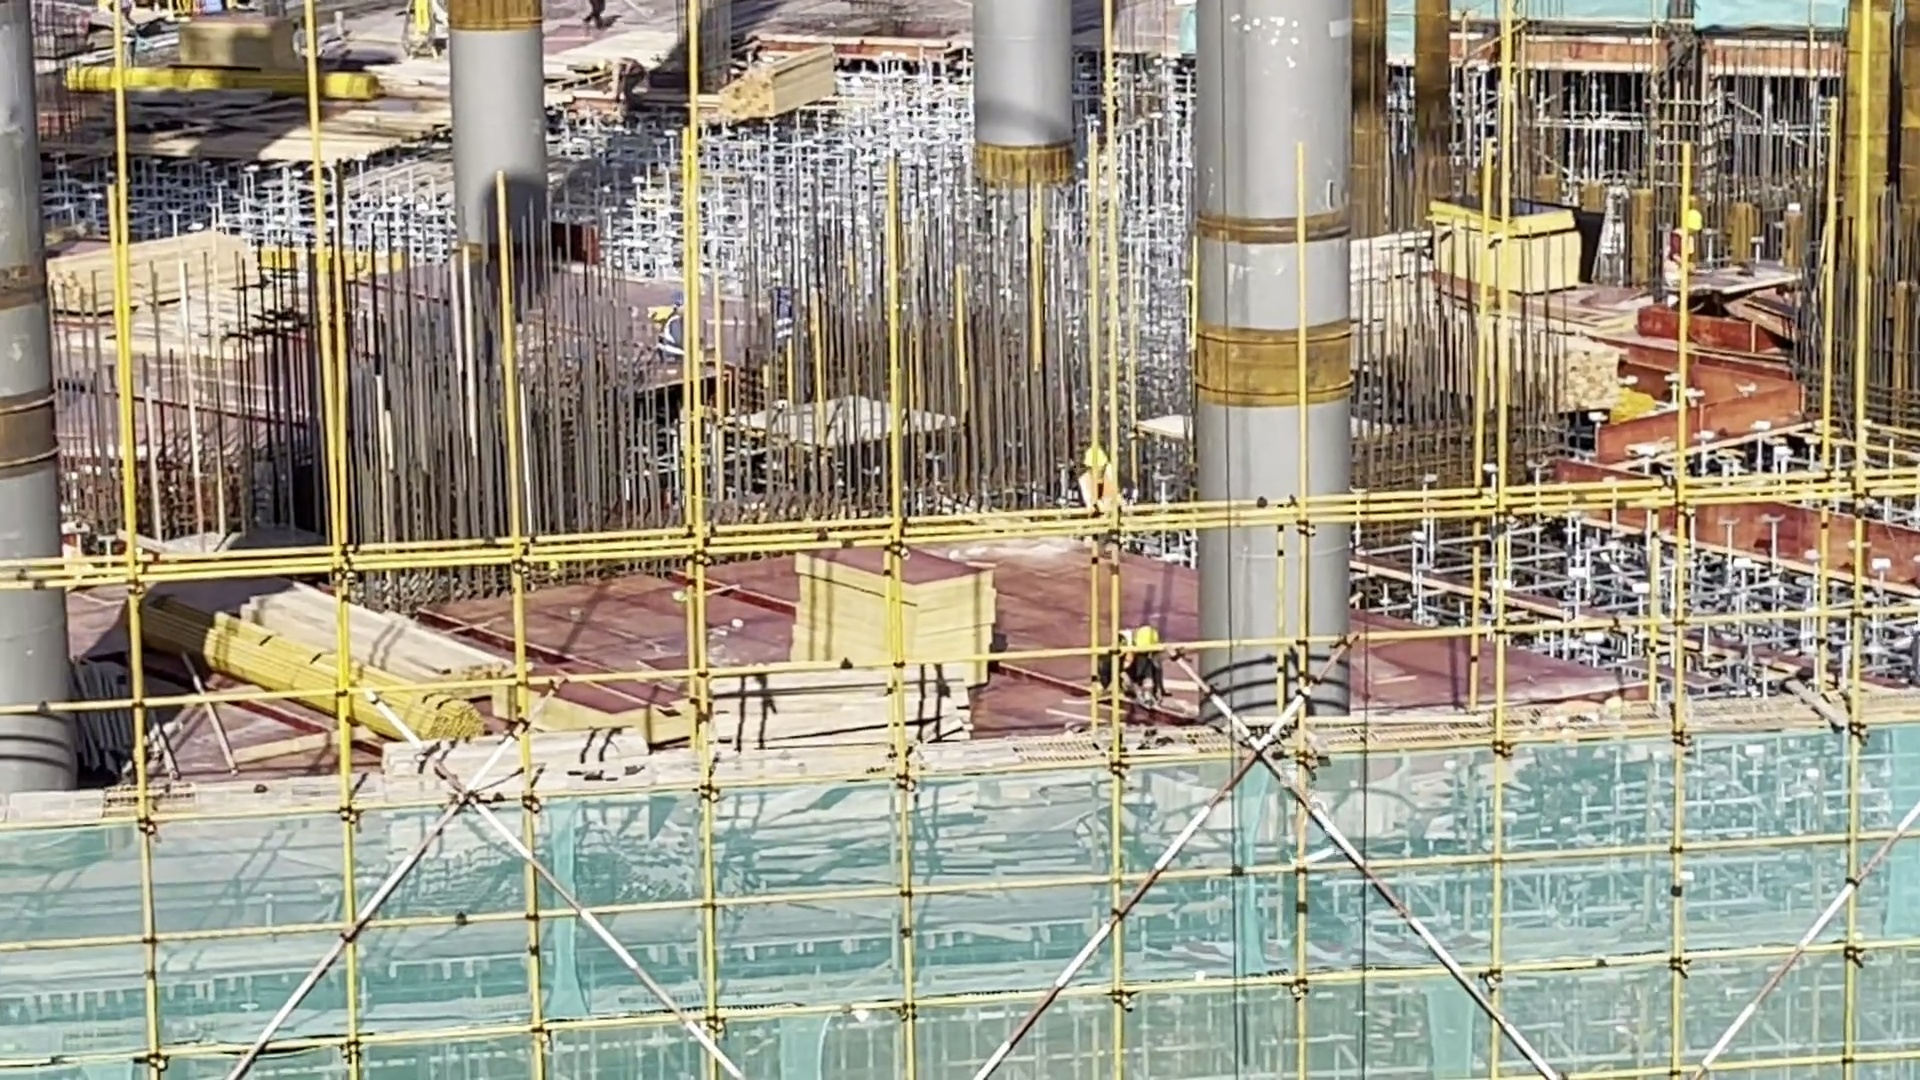board: (789, 539, 1002, 687)
person: (1112, 626, 1170, 704)
wood: (188, 589, 519, 735), (724, 674, 975, 745), (52, 234, 250, 307), (713, 58, 811, 126), (1552, 337, 1623, 415)
